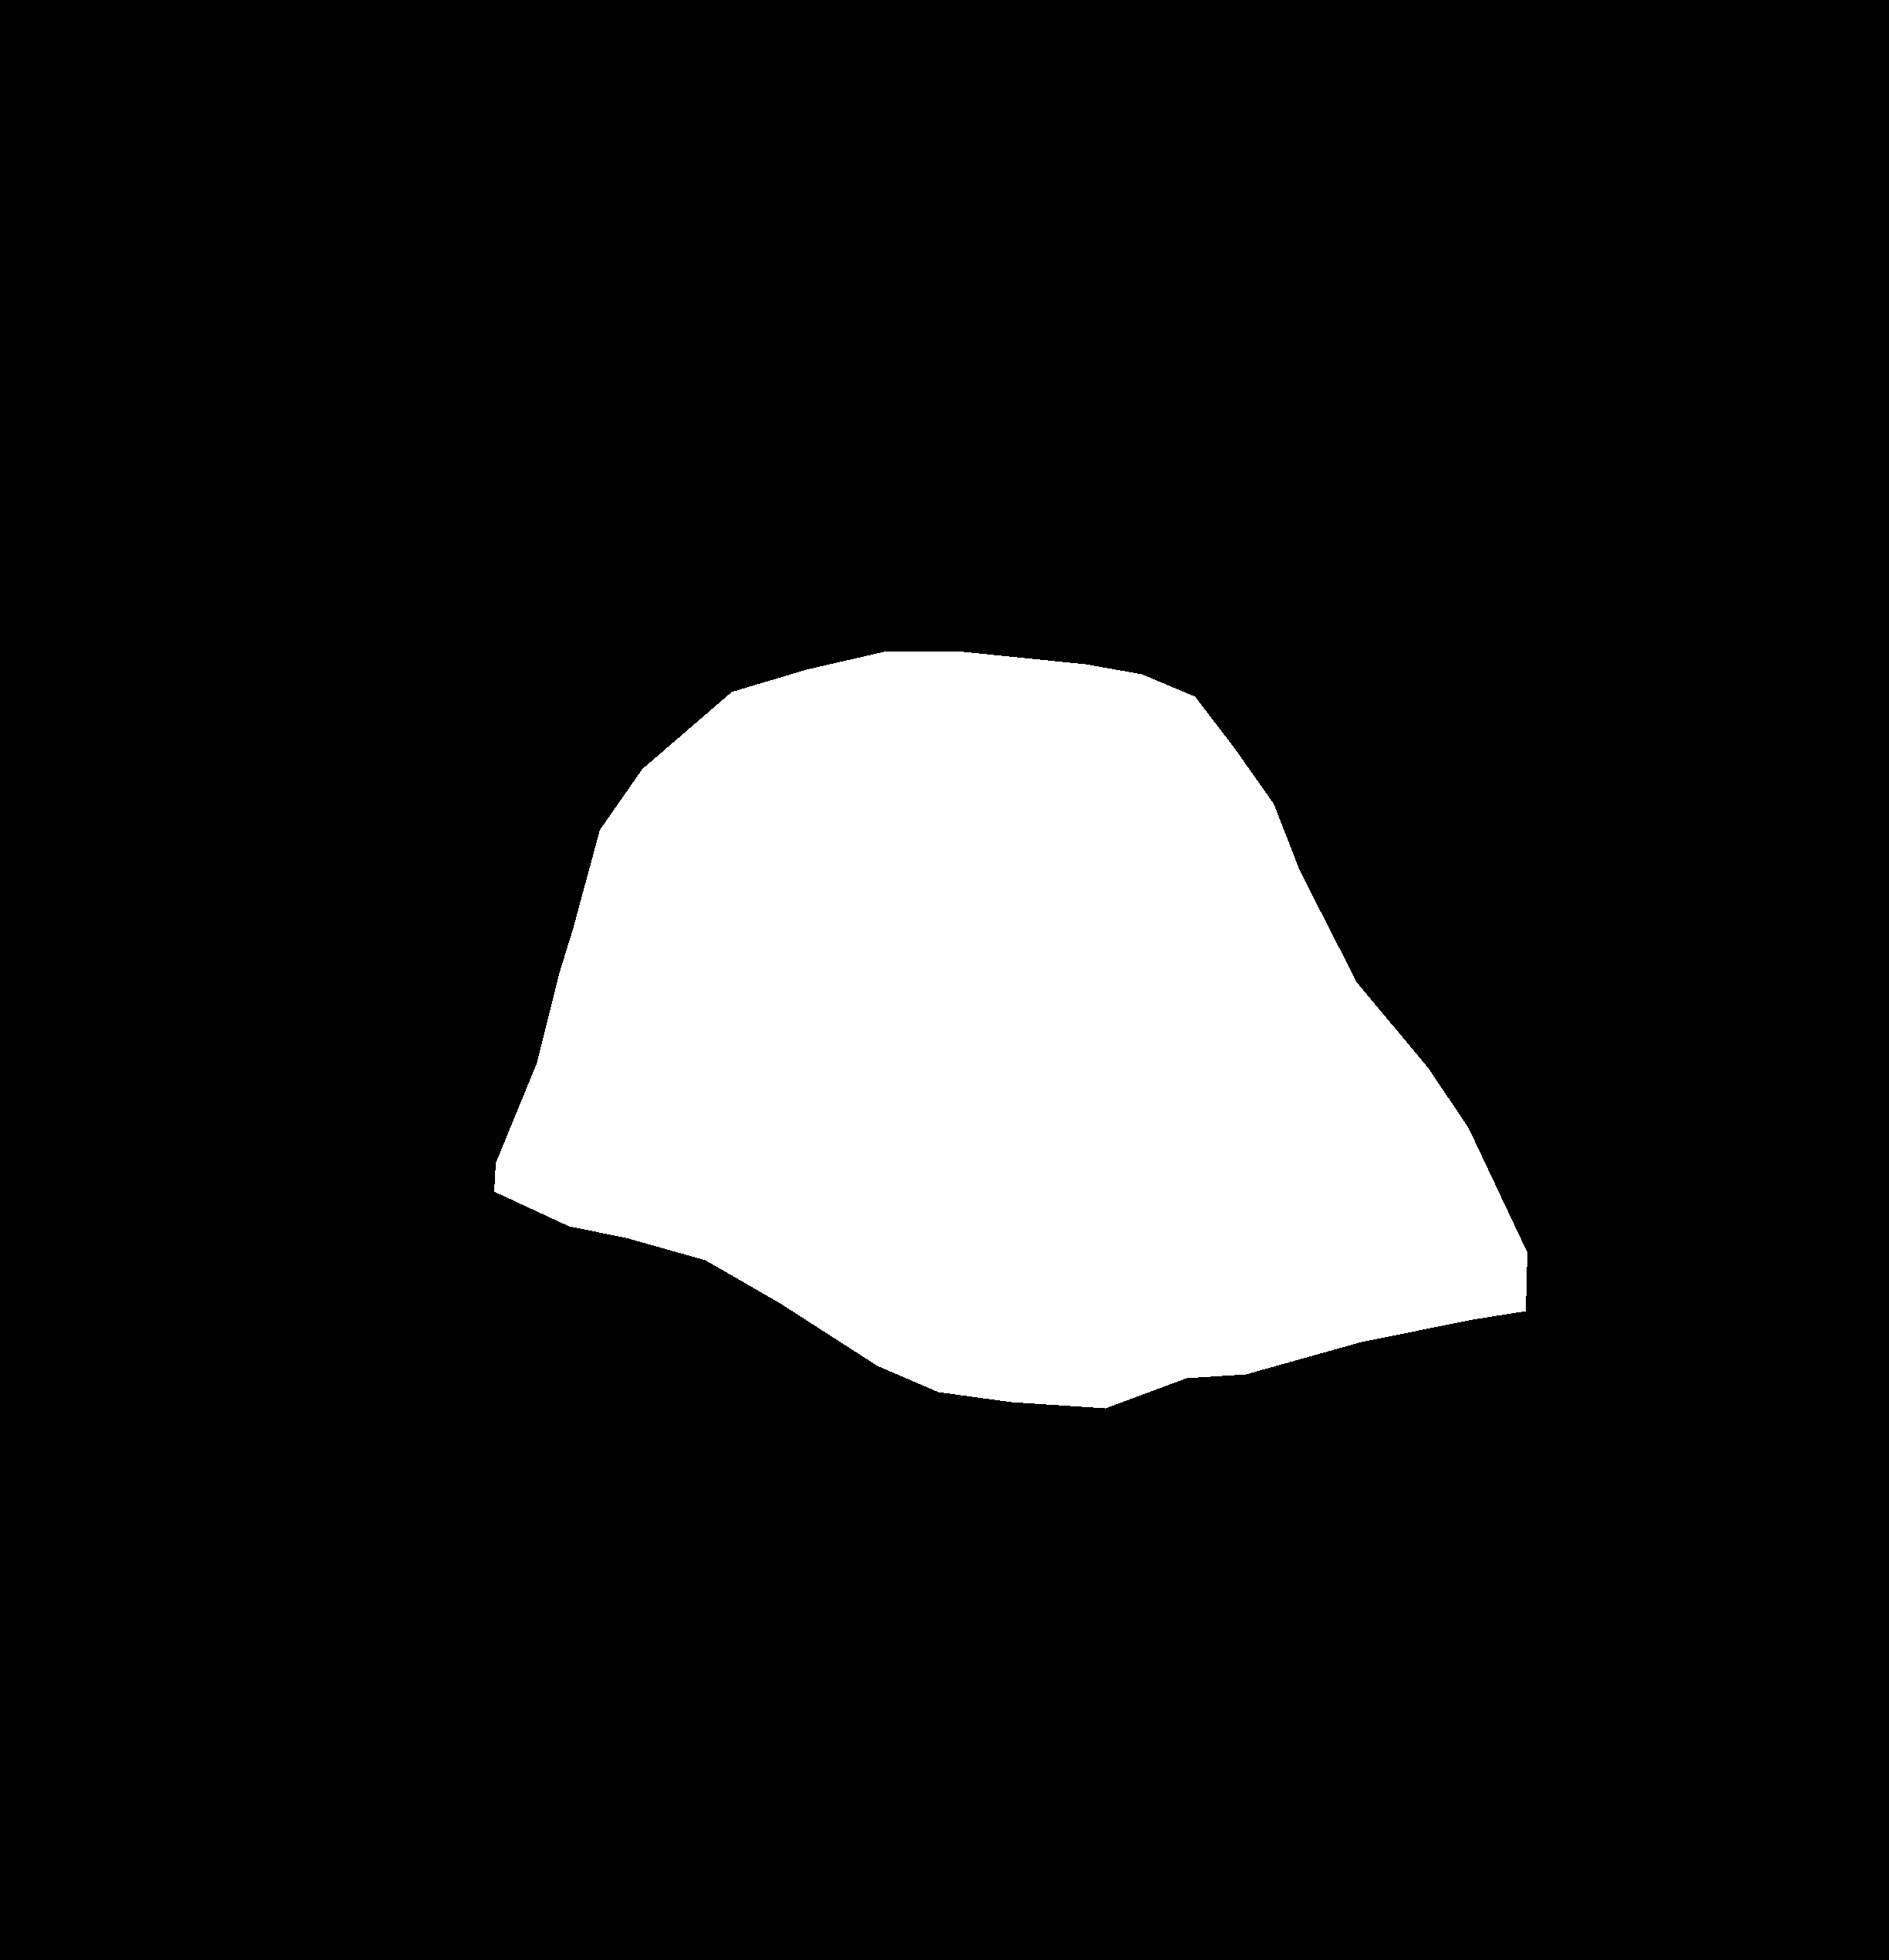heart: (494, 651, 1527, 1409)
left_lung: (86, 143, 821, 1297)
right_lung: (1022, 170, 1777, 1428)
